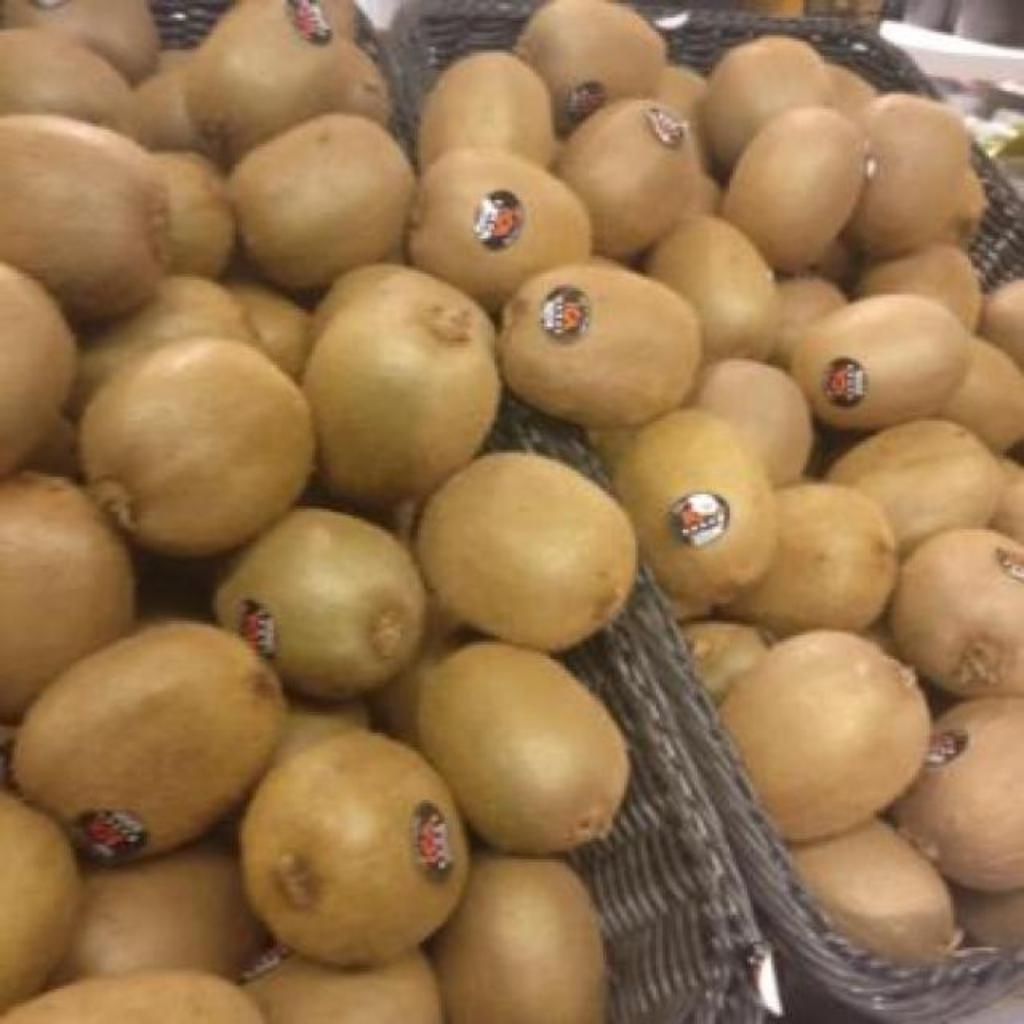kiwi: (14, 622, 280, 859), (240, 730, 468, 965), (80, 338, 314, 555), (302, 264, 500, 505), (418, 642, 628, 853), (720, 630, 930, 841), (418, 456, 632, 651), (216, 508, 426, 697), (612, 408, 778, 613), (0, 116, 162, 323), (0, 472, 134, 719), (188, 0, 388, 163), (502, 264, 702, 427), (230, 114, 414, 288), (504, 266, 702, 427), (432, 856, 606, 1023), (410, 150, 590, 311), (60, 840, 266, 980), (892, 698, 1024, 891), (726, 482, 892, 635), (70, 278, 255, 415), (722, 106, 866, 271), (792, 818, 954, 961), (792, 300, 970, 429), (558, 100, 702, 259), (826, 420, 998, 553), (890, 528, 1024, 697), (848, 94, 986, 257), (518, 0, 666, 133), (646, 218, 780, 359), (1, 794, 80, 1007), (704, 36, 828, 171), (1, 262, 76, 475), (422, 52, 552, 168), (694, 360, 812, 485), (246, 950, 444, 1024), (0, 31, 136, 137), (4, 0, 160, 81), (858, 244, 980, 331), (155, 152, 236, 277), (940, 336, 1024, 453), (229, 284, 308, 377), (774, 278, 848, 365), (136, 50, 200, 150), (685, 624, 768, 701), (980, 280, 1024, 367), (656, 66, 706, 135), (826, 62, 878, 121)
